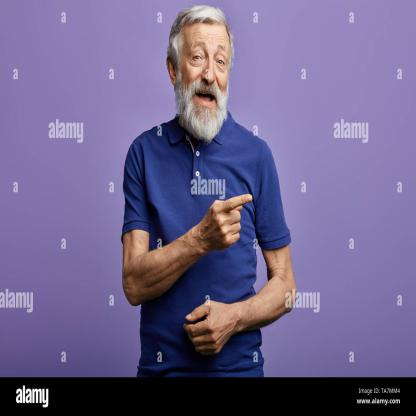Left: (201, 185, 255, 251)
